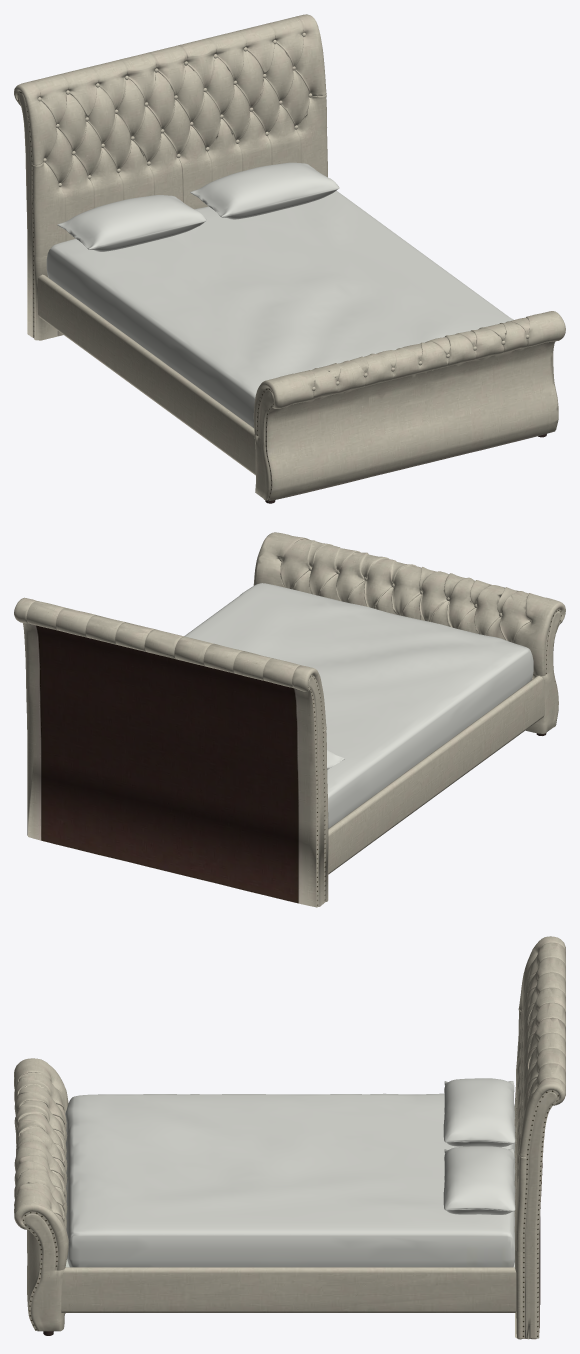
Rendered from B075QFF9FY.glb.
The picture shows the model from 3 angles, top to bottom: view 1: azimuth 30°, elevation 25°; view 2: azimuth 150°, elevation 25°; view 3: azimuth 270°, elevation 25°; orthographic projection. The views are drawn at different scales.
Parts seen in each view (by area): view 1: RootNode; view 2: RootNode; view 3: RootNode.
Part boxes in pixels (x1,y1,x2,y2): RootNode: (14, 14, 565, 503); RootNode: (14, 532, 565, 907); RootNode: (14, 936, 565, 1339).
Size of the model in its own units: 1.61 by 1.27 by 2.49.
Materials: 1 (1 with a texture image).
